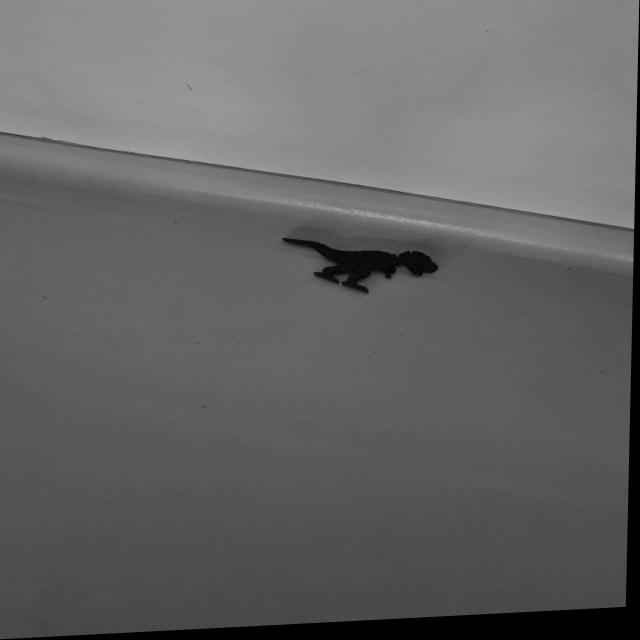dino: (279, 229, 440, 298)
